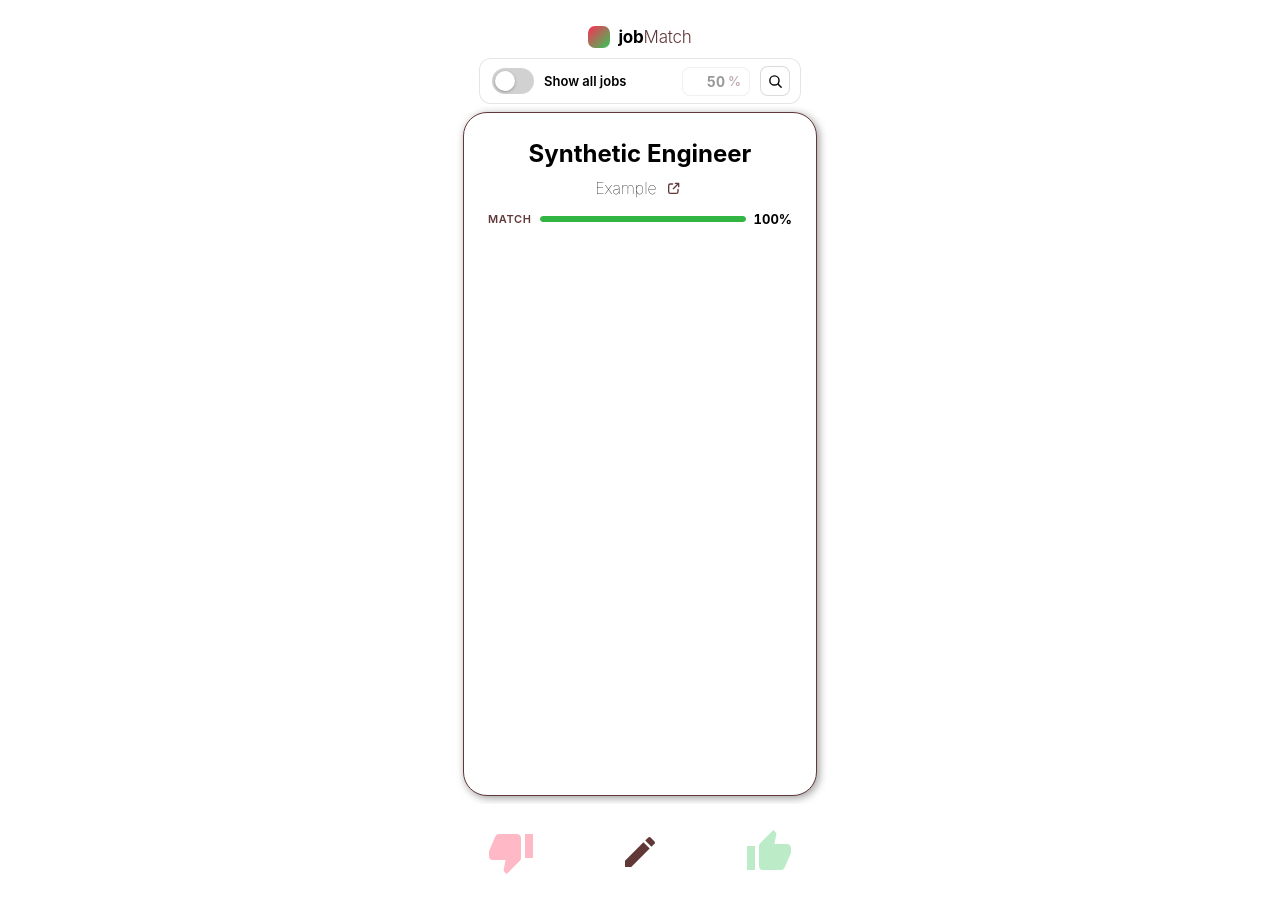
it: nested revision Escape in the full MatchPage › aborts a pending revision on first Escape and ignores a late success
The image size is (1280, 900).
Click the button with class "like-container__button--edit" at (640, 852), box [616,828,664,876]
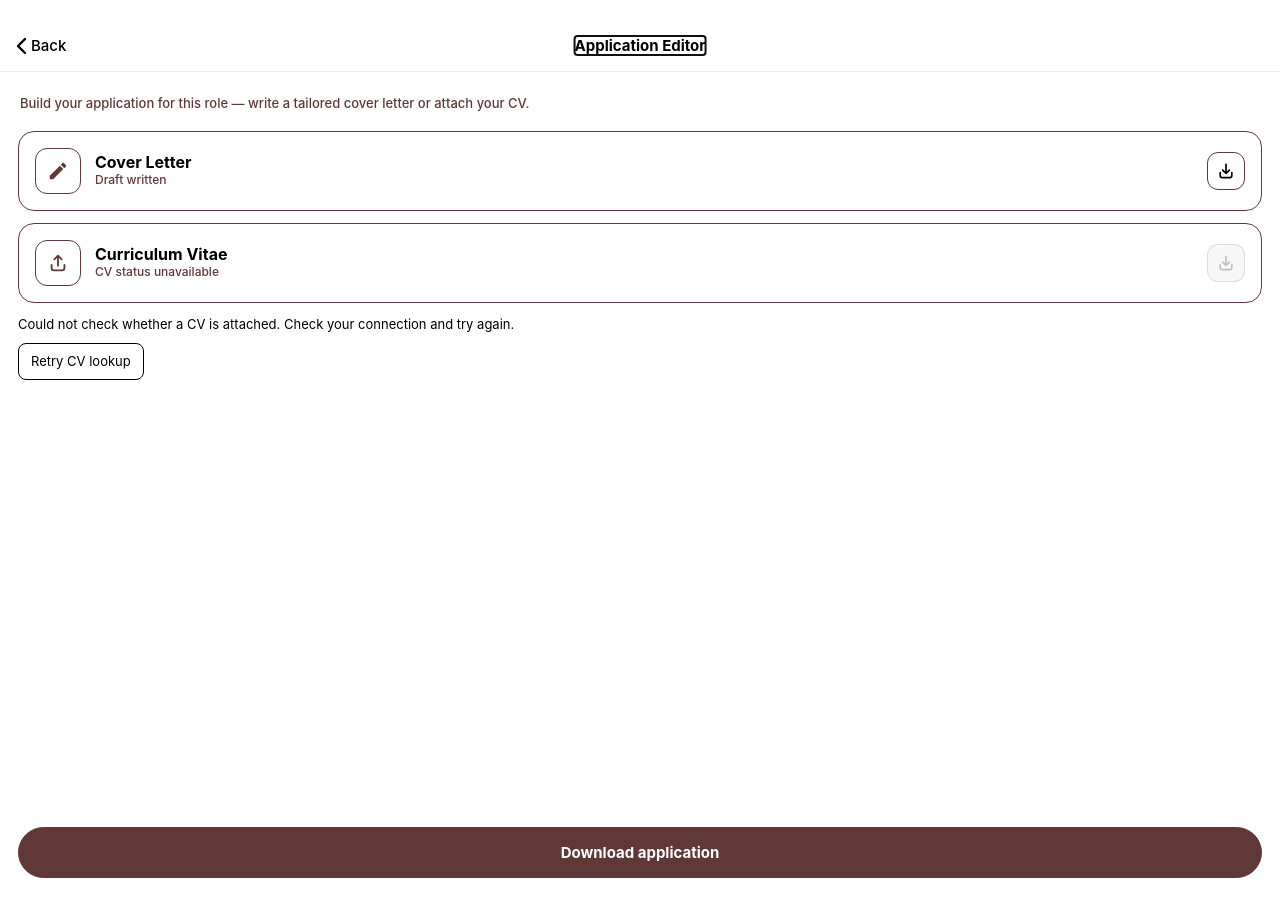
Click the button with class "cl-action__row" showing "Cover Letter Draft written" at (58, 171), box [35,148,1197,194]
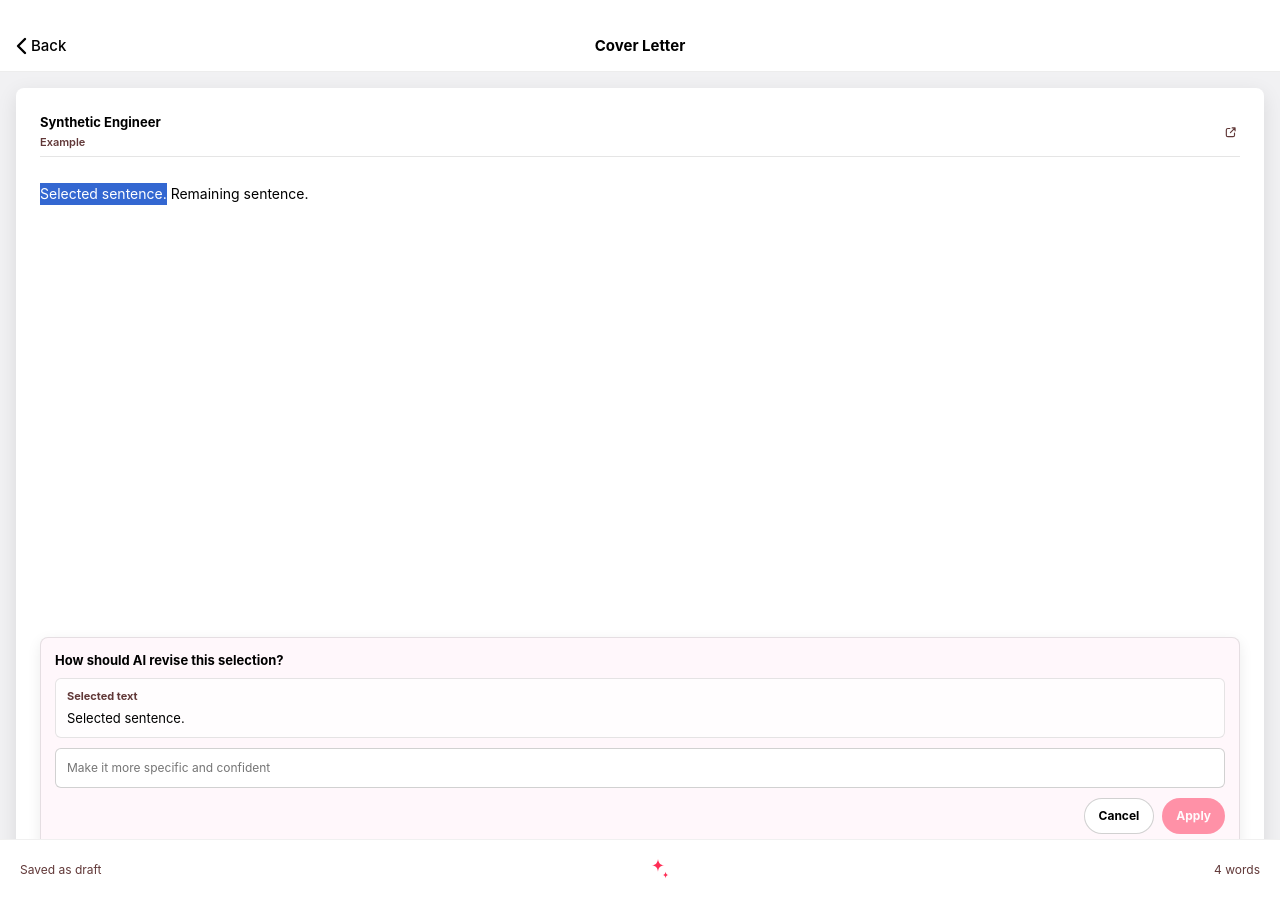
Type "Make it clear." into the field with class "cl-revision__instruction" at (640, 768), box [55,748,1225,788]
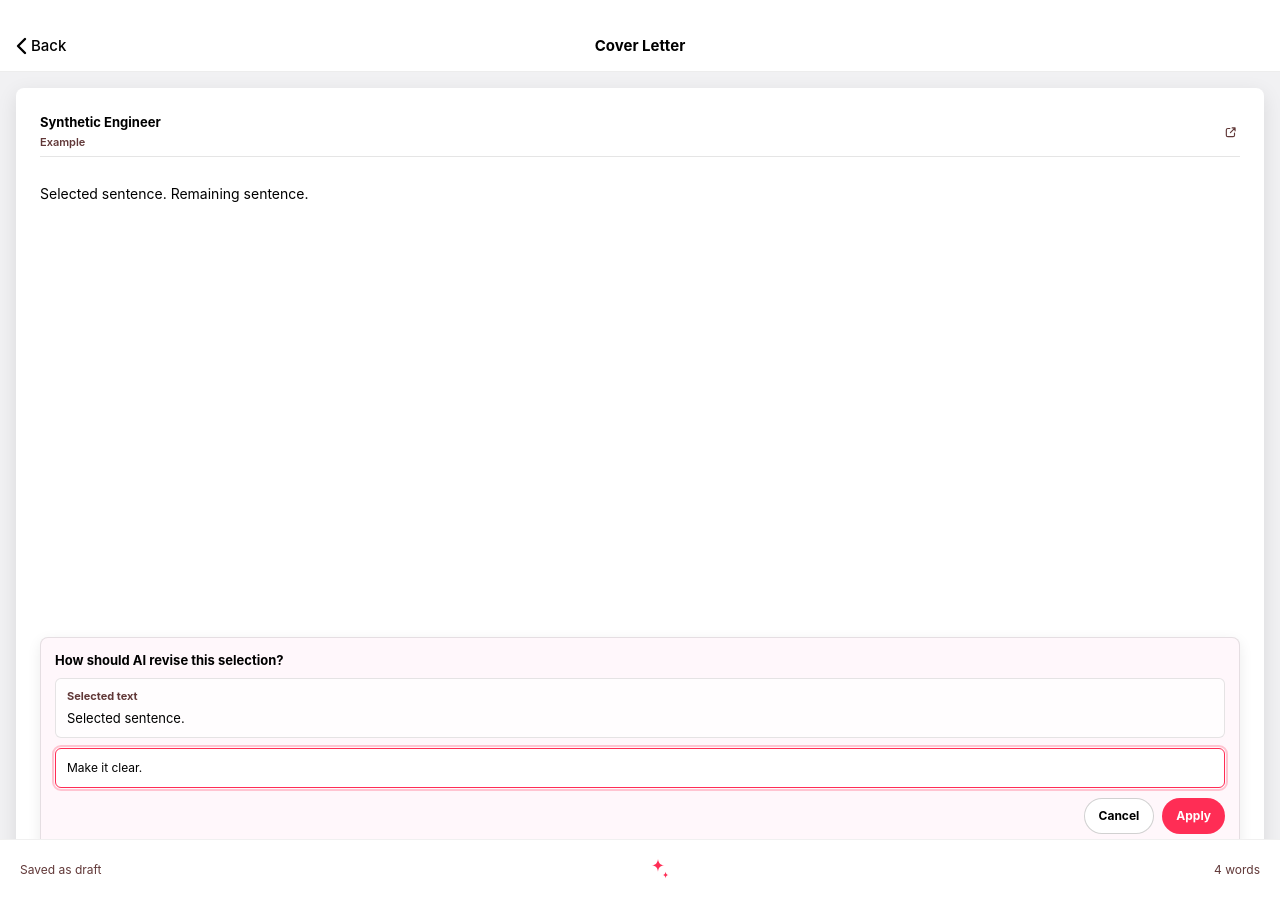
Submit the dialog with class "cl-revision", box [40,637,1240,849]
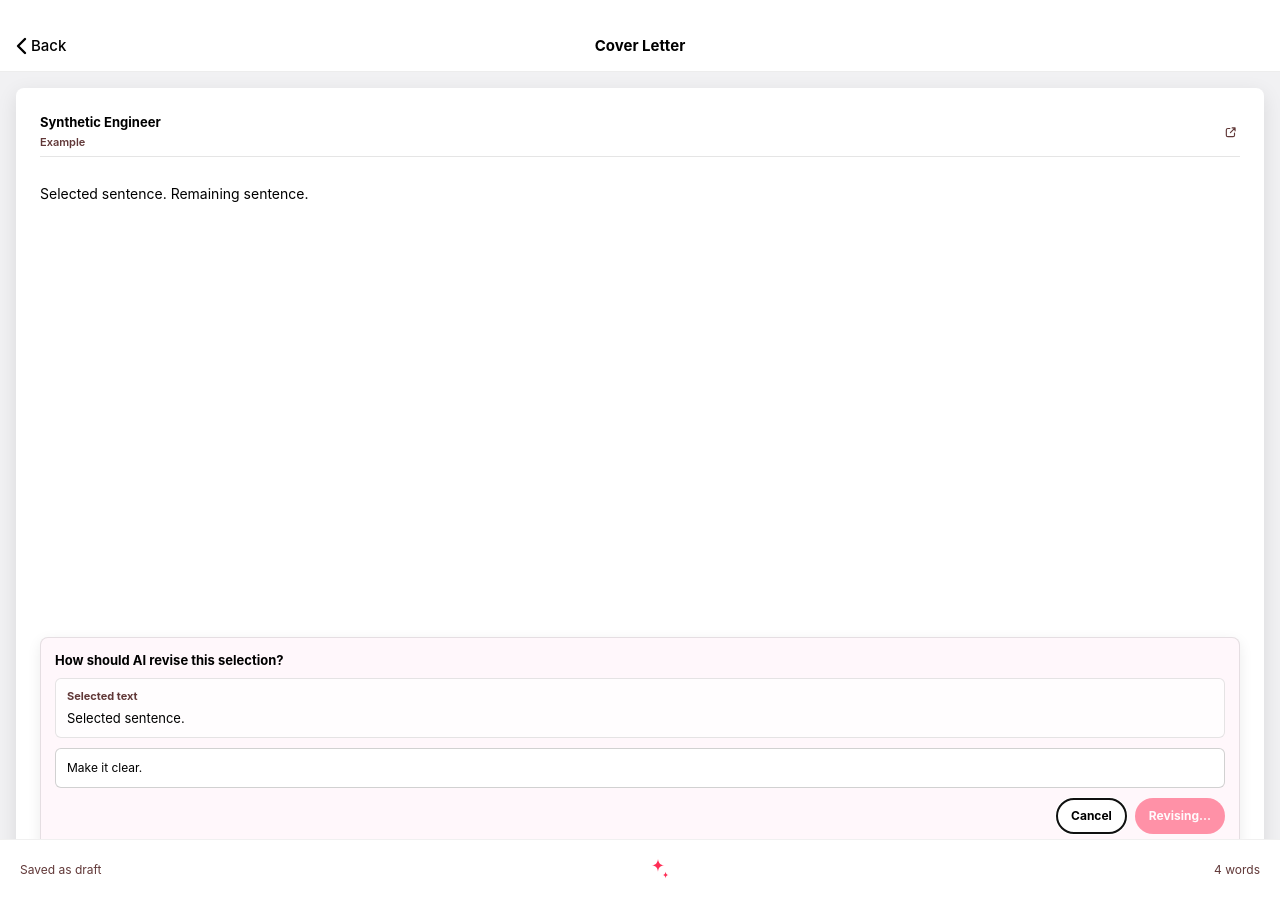
Now the button with class "cl-revision__cancel" is enabled
Press Escape in the button with class "cl-revision__cancel", box [1056,798,1127,834]
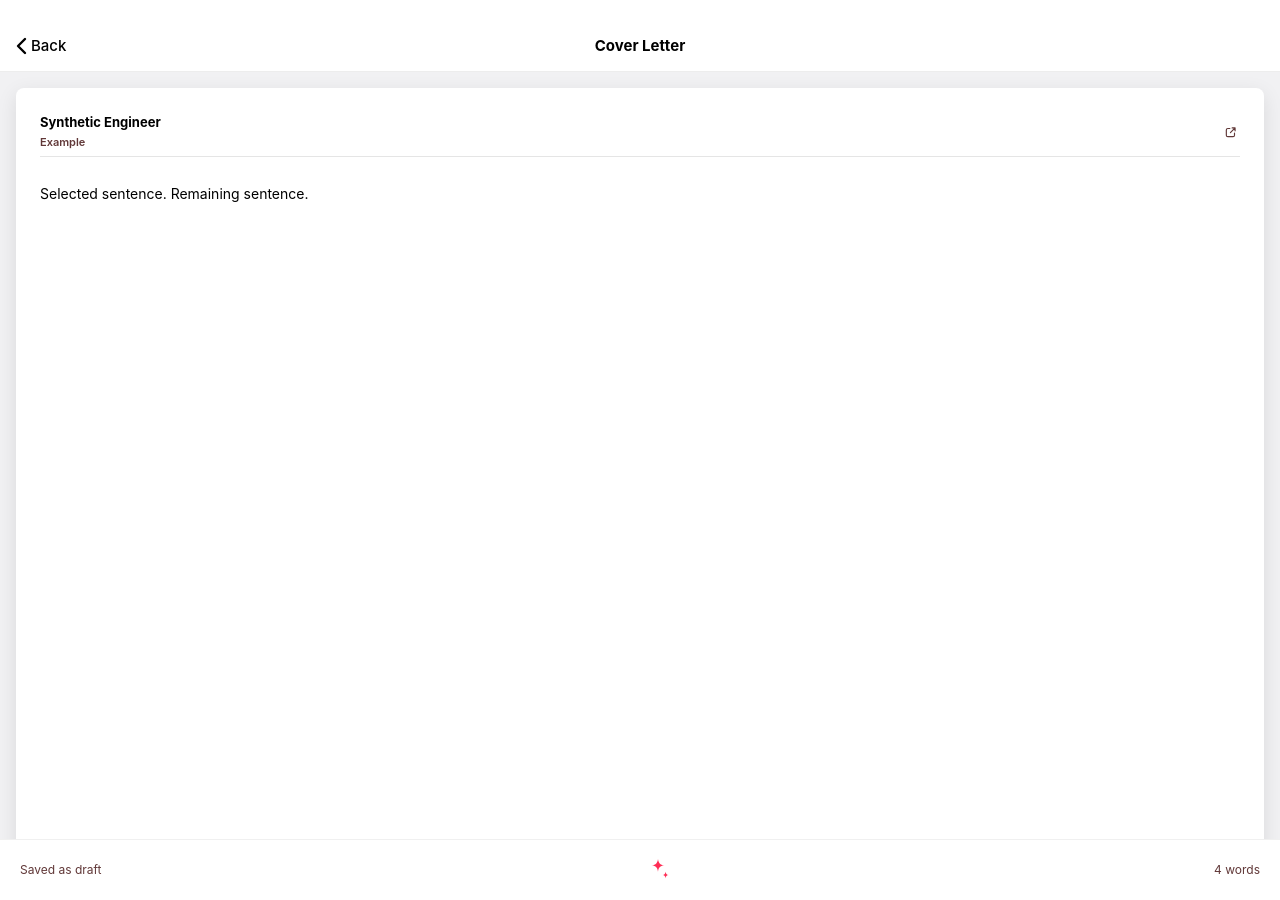
Now the text box with class "cl-textarea" holds "Selected sentence. Remaining sentence."
Now the text box with class "cl-textarea" is enabled
